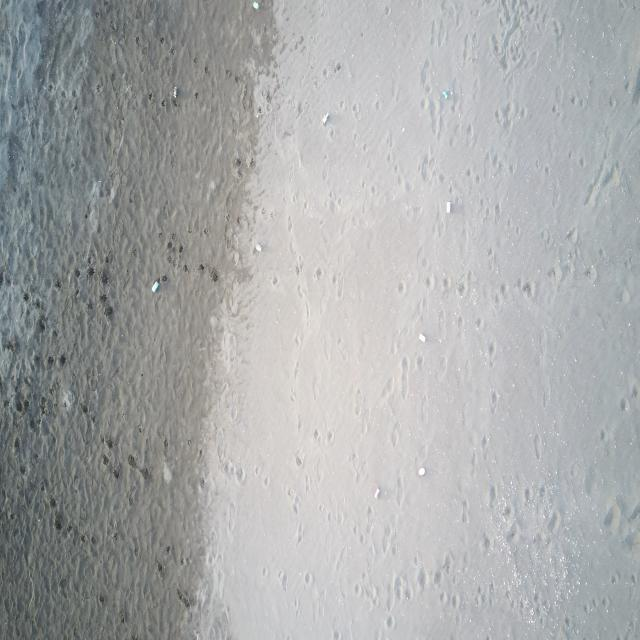Garbage: (440, 89, 452, 99), (151, 281, 159, 292), (446, 200, 452, 212), (322, 112, 328, 124), (173, 85, 178, 99), (373, 487, 380, 497), (417, 332, 424, 342), (417, 467, 424, 475), (252, 0, 259, 8), (255, 243, 261, 252)
